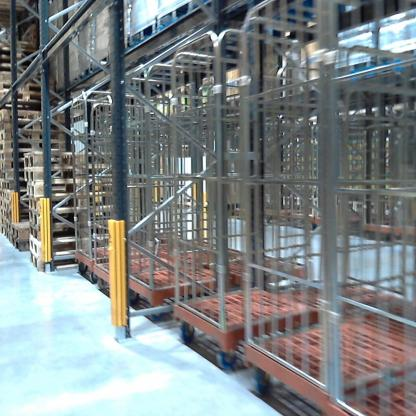pallet: (25, 237, 104, 259), (27, 250, 101, 271), (24, 149, 100, 169), (1, 104, 75, 122), (24, 181, 99, 198), (27, 166, 101, 182), (24, 197, 99, 212), (25, 221, 85, 237), (1, 120, 64, 133), (2, 129, 68, 141), (27, 209, 83, 223), (1, 72, 52, 86), (1, 92, 55, 105), (9, 222, 41, 241), (2, 142, 71, 150), (2, 197, 28, 214), (1, 50, 55, 58), (12, 235, 37, 252), (2, 186, 28, 202), (1, 209, 30, 223), (1, 58, 50, 66), (1, 157, 27, 171), (2, 176, 28, 190), (1, 146, 26, 160), (1, 86, 54, 92), (1, 66, 50, 72), (1, 170, 28, 180), (3, 218, 11, 233)
